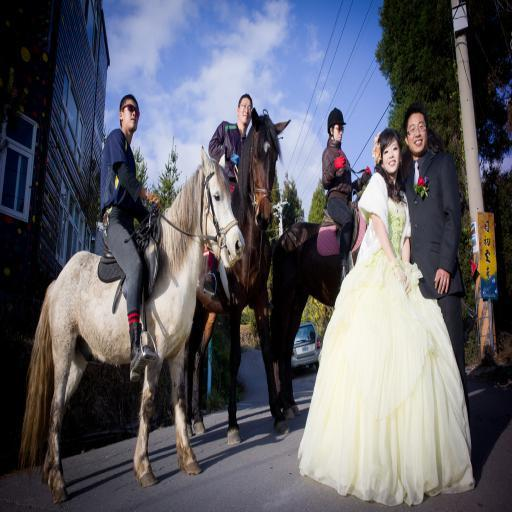horse: (20, 144, 246, 506), (182, 102, 290, 450), (270, 174, 372, 419)
